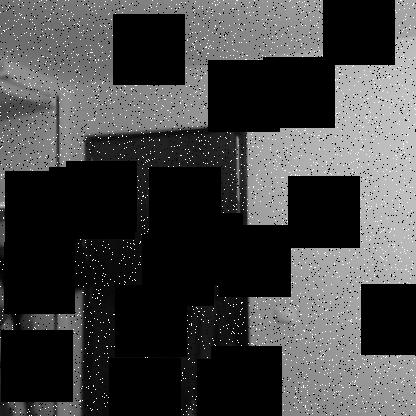Porte: (81, 123, 253, 415)
